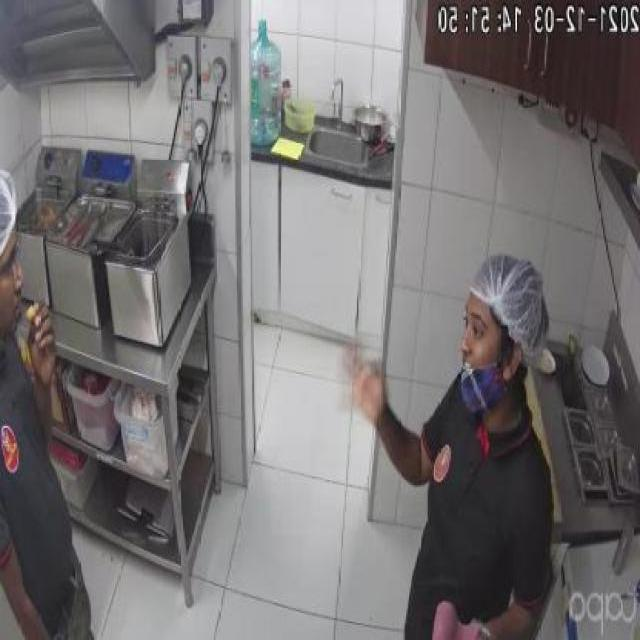hairnet: (473, 252, 550, 352), (0, 167, 15, 253)
